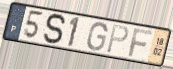1: (67, 16, 81, 49)
5: (22, 9, 45, 42)
F: (127, 27, 154, 58)
G: (86, 22, 109, 52)
P: (105, 24, 130, 55)
S: (42, 13, 68, 46)
